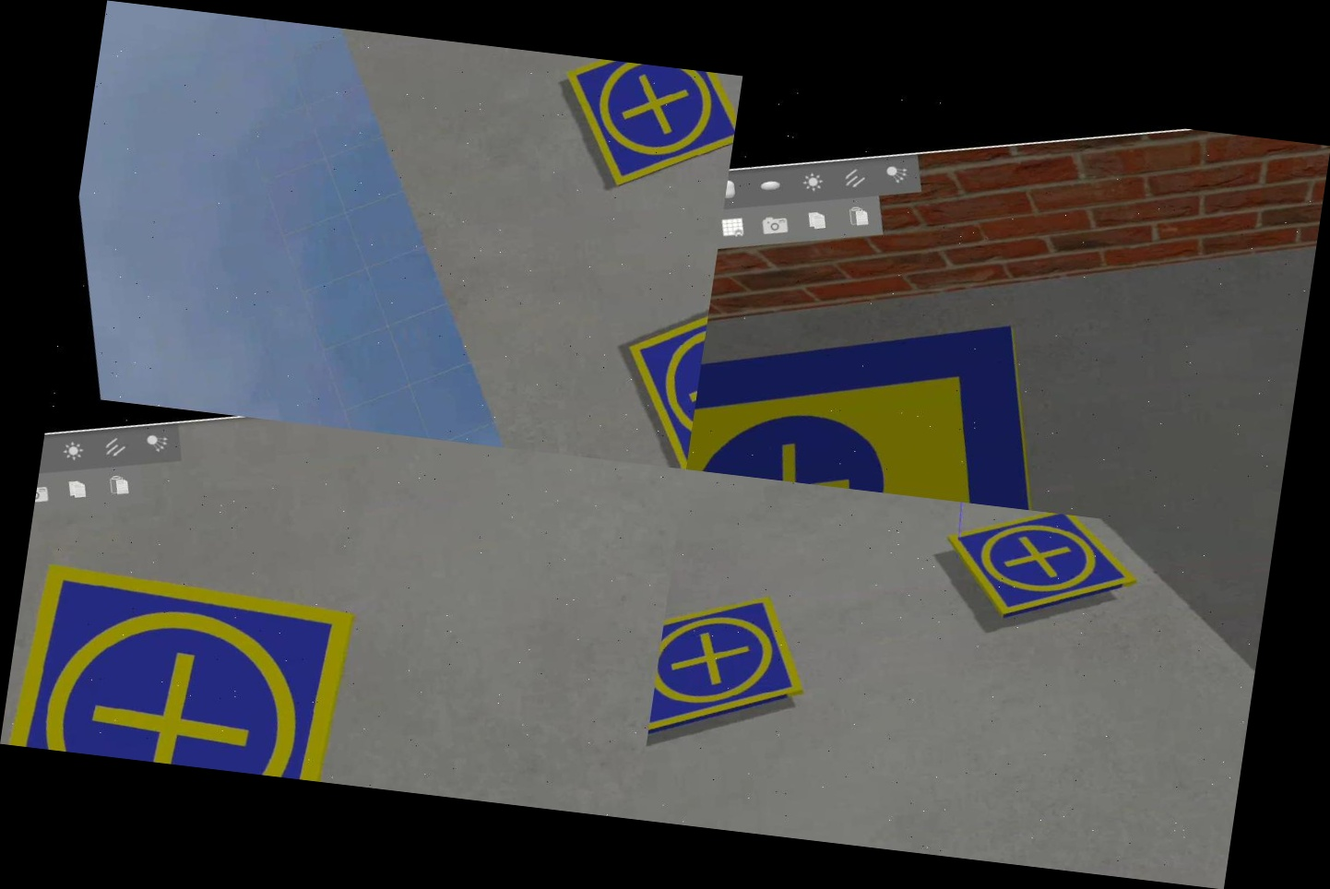large_base: (686, 286, 1093, 515)
small_base: (0, 500, 433, 790), (647, 581, 827, 758), (540, 54, 742, 205), (932, 501, 1149, 640), (599, 271, 713, 469)
